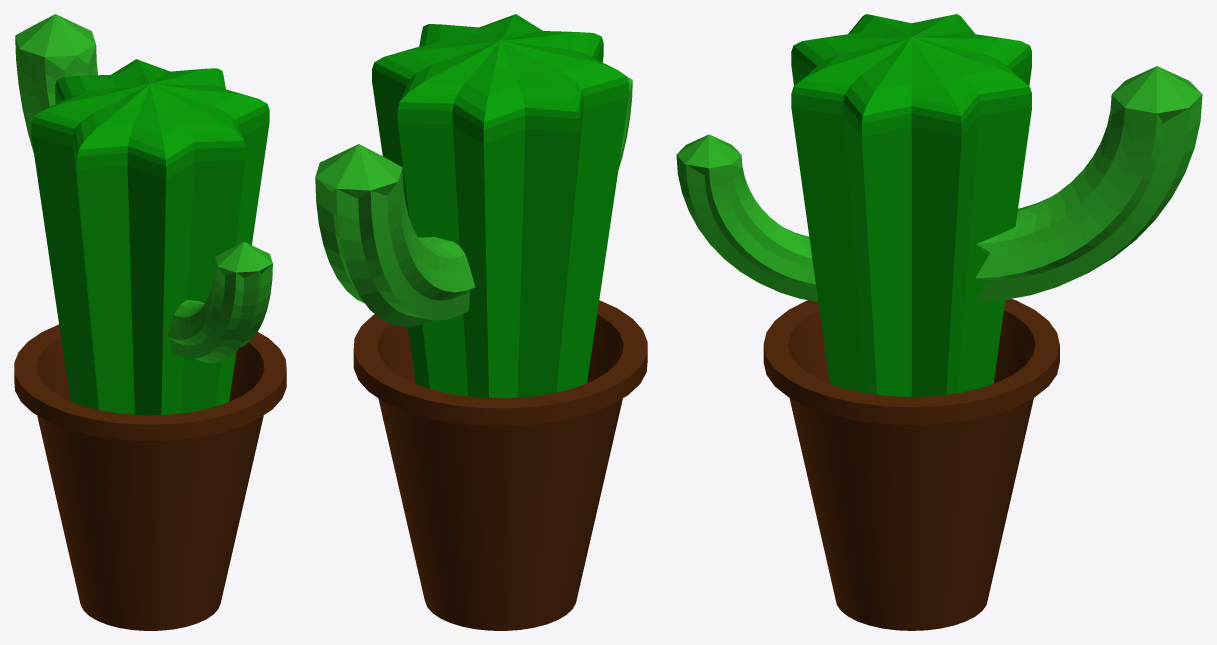
File: Cactus1.fbx
The picture shows the model from 3 angles, left to right: view 1: azimuth 30°, elevation 25°; view 2: azimuth 150°, elevation 25°; view 3: azimuth 270°, elevation 25°; orthographic projection. The views are drawn at different scales.
Parts seen in each view (by area): view 1: Cylinder, Cylinder.001, Torus, Torus.001; view 2: Cylinder, Cylinder.001, Torus.001; view 3: Cylinder, Cylinder.001, Torus.001, Torus.
Part boxes in pixels (x1=…): Cylinder: x1=31, y1=59, x2=269, y2=415; Cylinder.001: x1=14, y1=324, x2=286, y2=630; Torus: x1=167, y1=241, x2=272, y2=362; Torus.001: x1=15, y1=14, x2=97, y2=152; Cylinder: x1=372, y1=14, x2=629, y2=398; Cylinder.001: x1=353, y1=300, x2=647, y2=630; Torus.001: x1=315, y1=144, x2=475, y2=326; Cylinder: x1=791, y1=14, x2=1031, y2=396; Cylinder.001: x1=763, y1=298, x2=1059, y2=630; Torus.001: x1=975, y1=66, x2=1202, y2=301; Torus: x1=676, y1=134, x2=818, y2=301.
Size of the model in its own units: 227 by 475 by 404.
